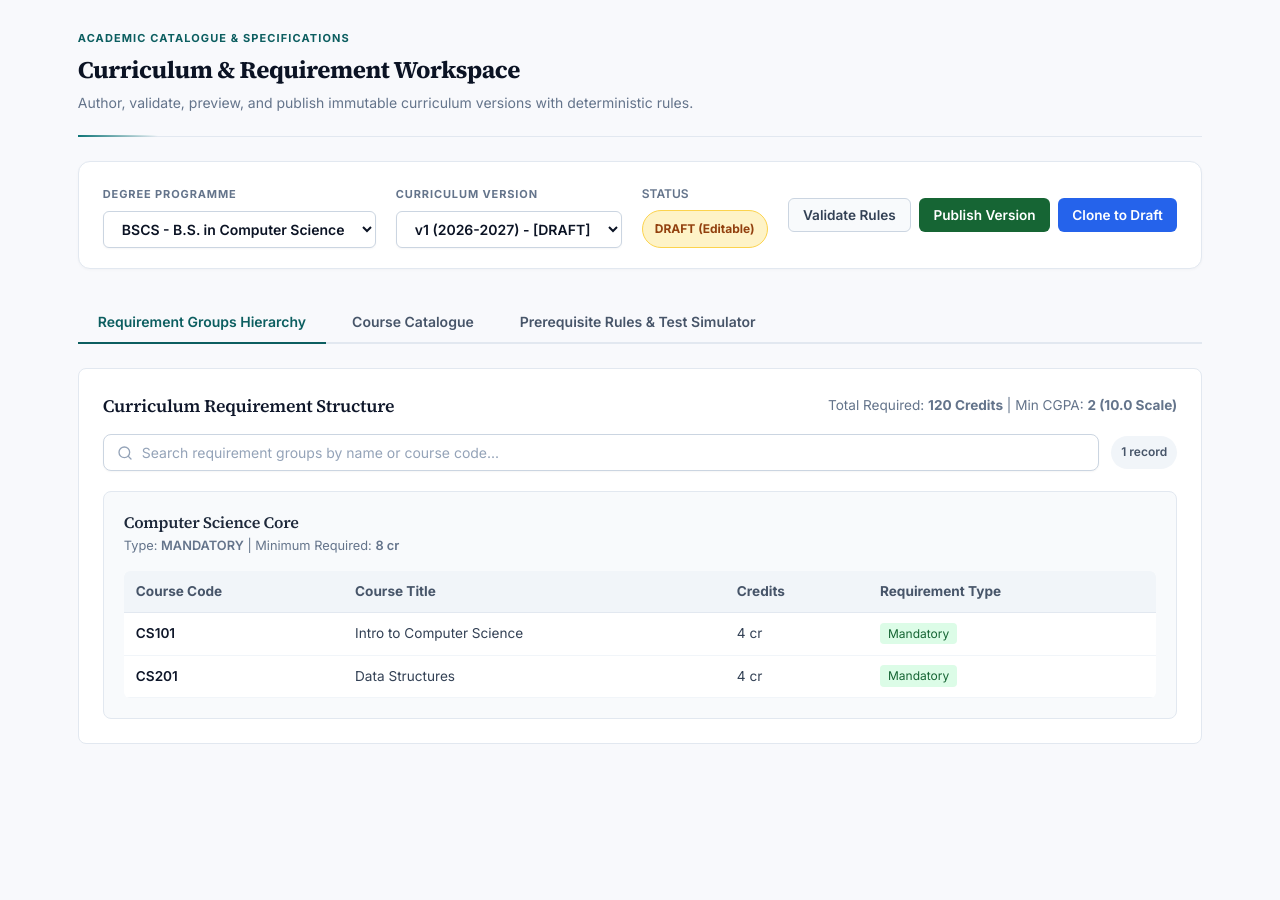
Test: CurriculumWorkspacePage › opens and closes Rule Builder Modal
// Navigate to rules tab
What coordinates should you click on to do the following:
click the button "Prerequisite Rules & Test Simulator"
I would click on:
 (638, 322)
Its box is [500, 301, 776, 342].
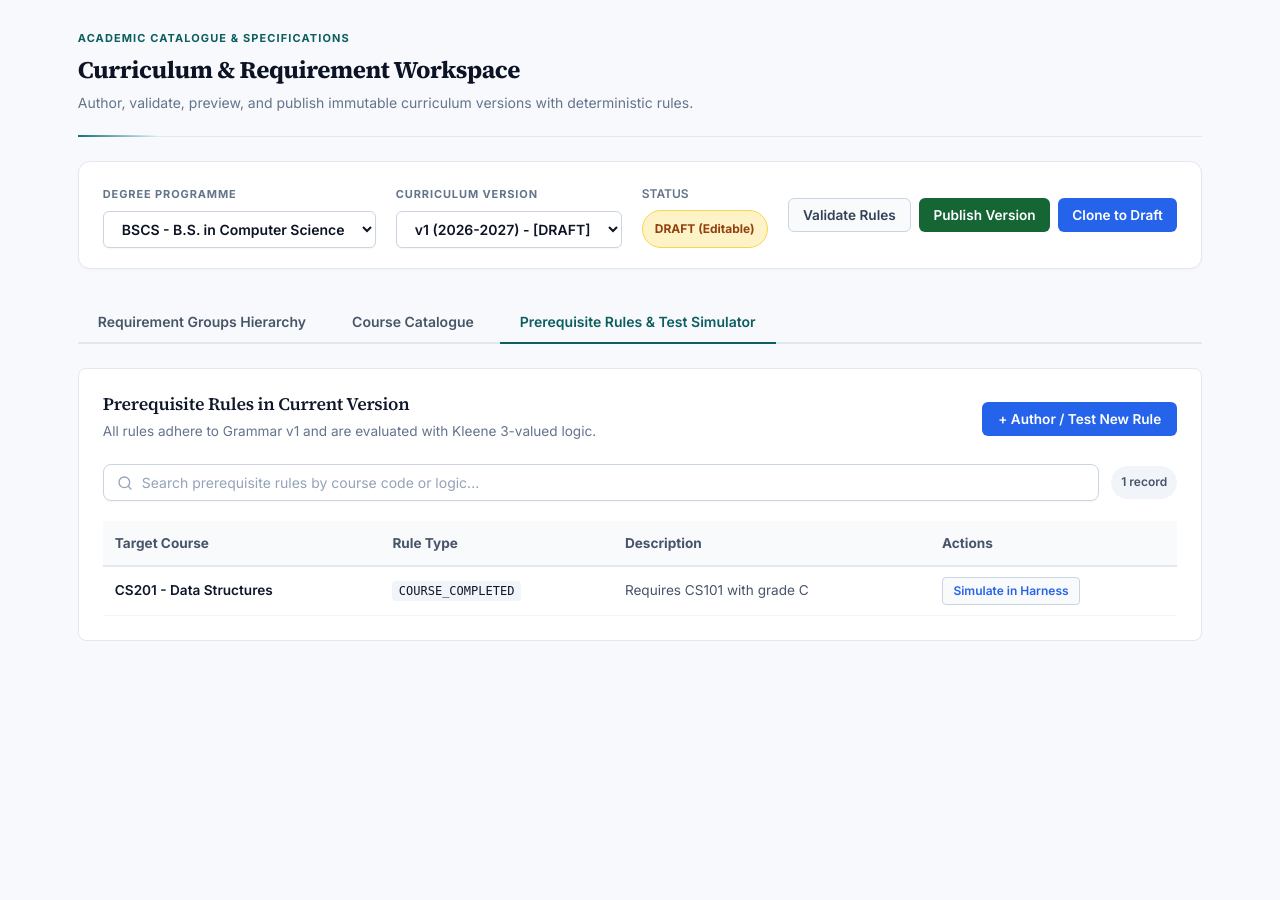
What coordinates should you click on to do the following:
click the button "+ Author / Test New Rule"
I would click on:
 (1080, 419)
Its box is [982, 402, 1177, 436].
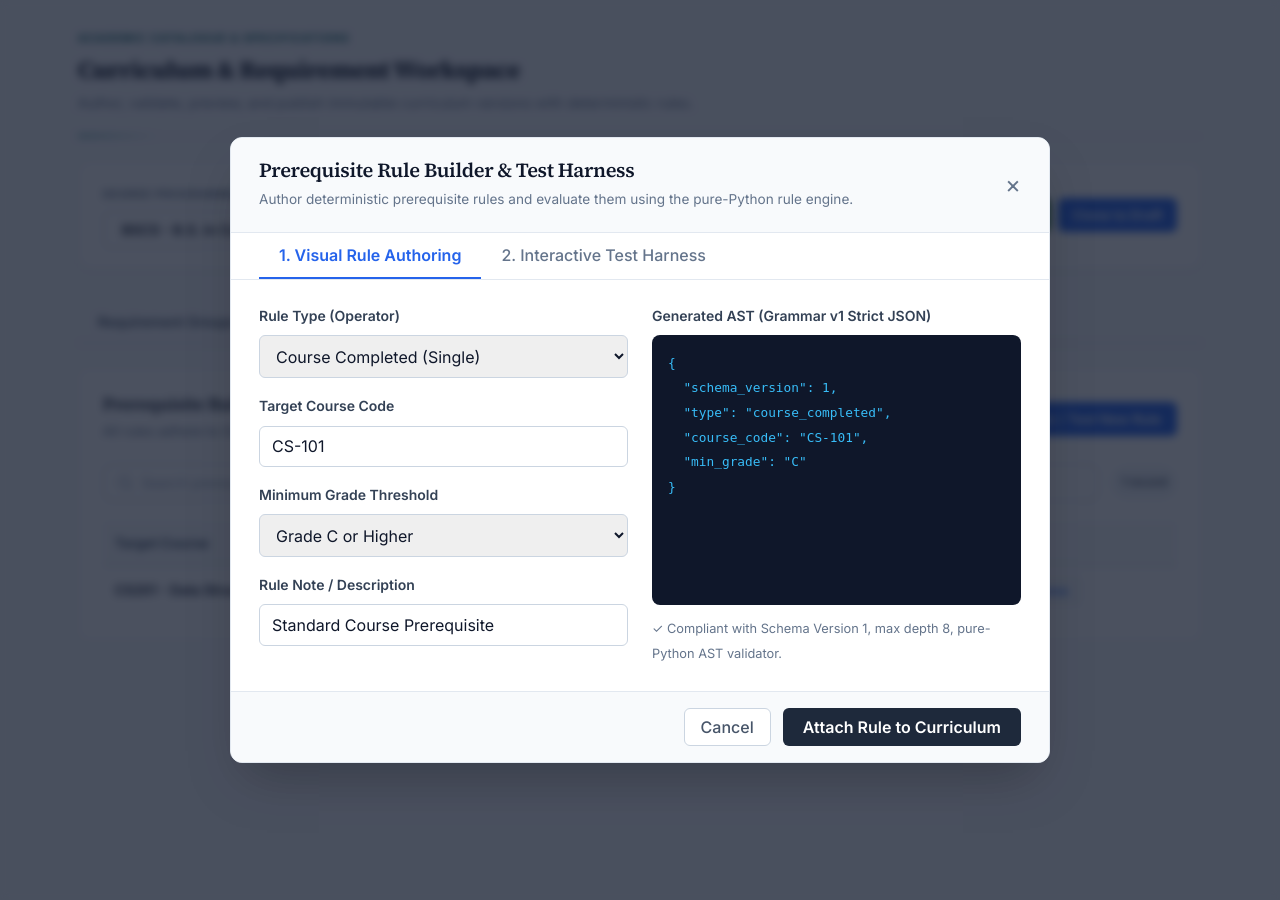
Expected: the heading "Prerequisite Rule Builder & Test Harness" is shown, [259, 156, 634, 184]
Expected: the text "Rule Type (Operator)" is shown, [259, 307, 400, 324]
// Close modal
What coordinates should you click on to do the following:
click the button named "close dialog"
I would click on:
 (1013, 185)
Its box is [1005, 173, 1021, 197].
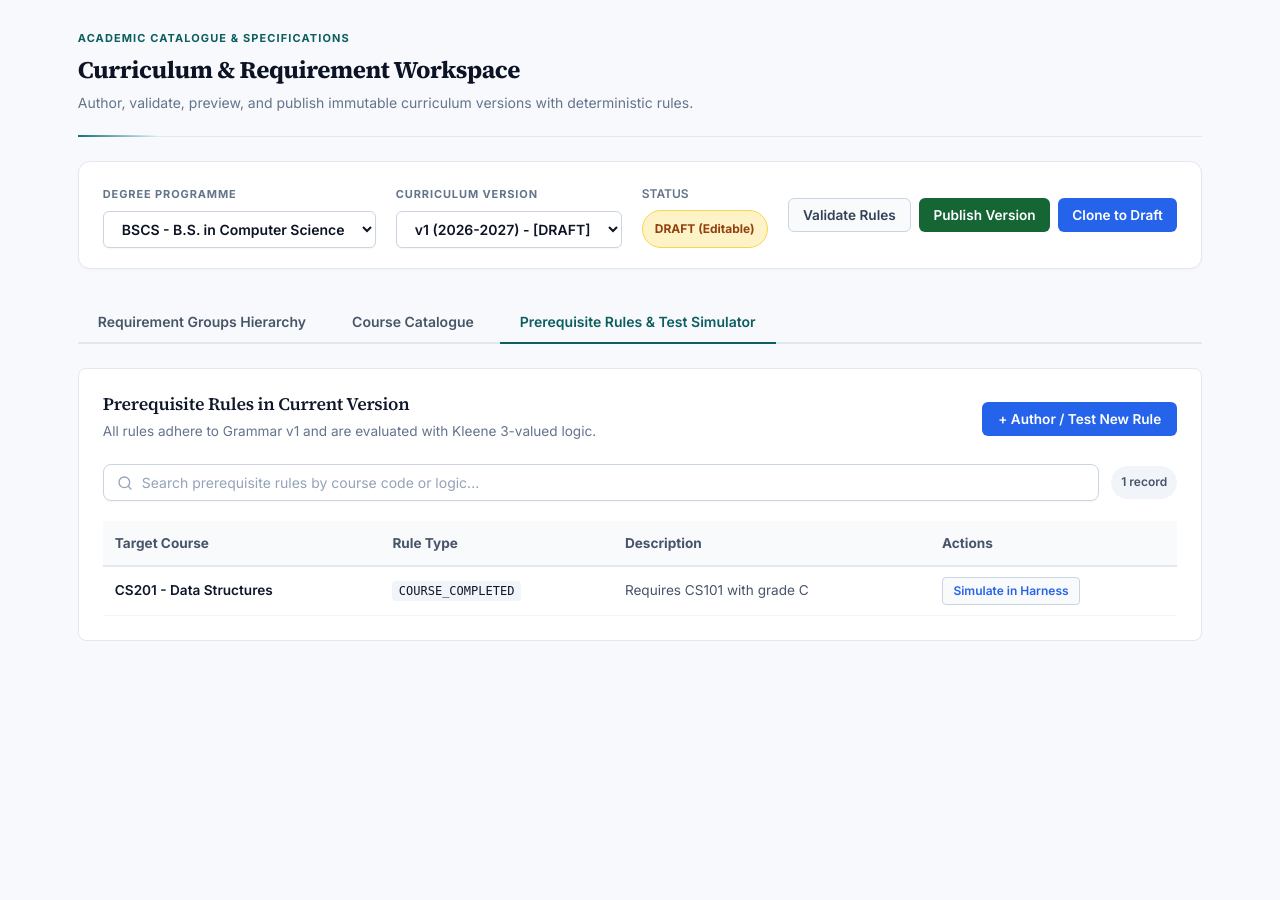
Expected: the heading "Prerequisite Rule Builder & Test Harness" is gone
